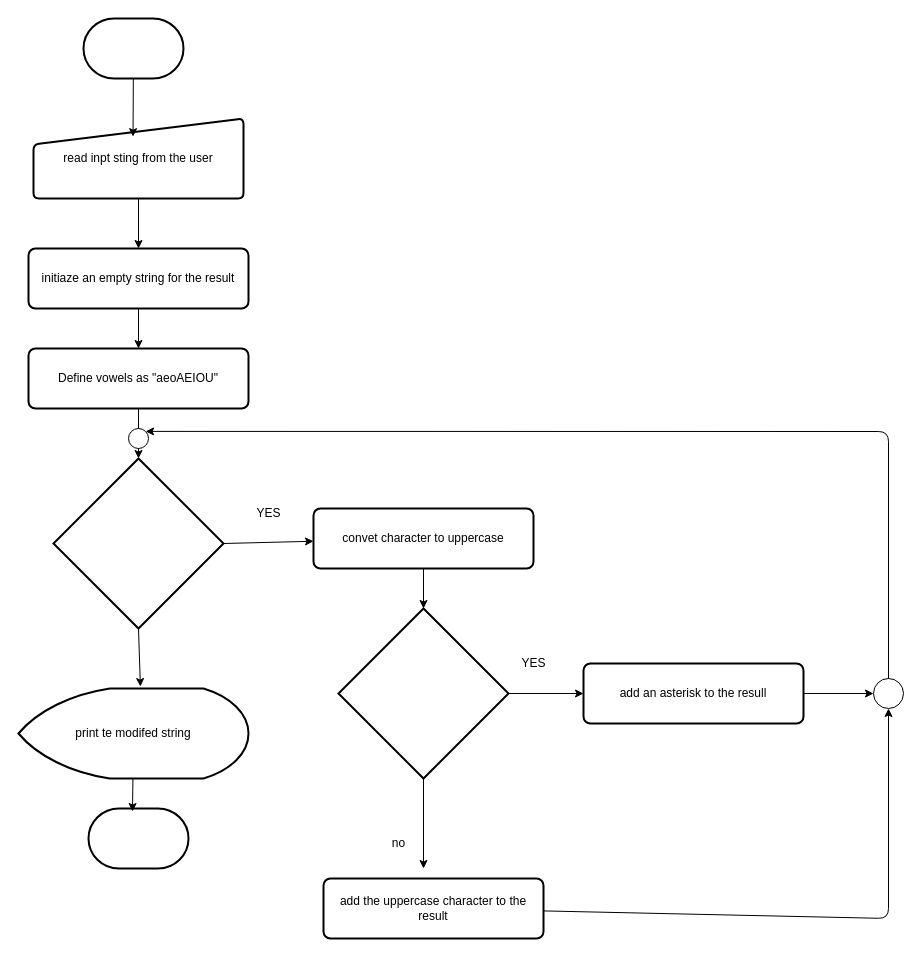
Some shapes in this 921 by 956 pixel diagram are drawn without their labels. Each missing label, with the box of its shape:
end: (87, 807, 189, 869)
IS CHARCTER A VOWEL?: (337, 607, 509, 779)
More characters in string?: (52, 457, 224, 629)
start: (82, 17, 184, 79)
